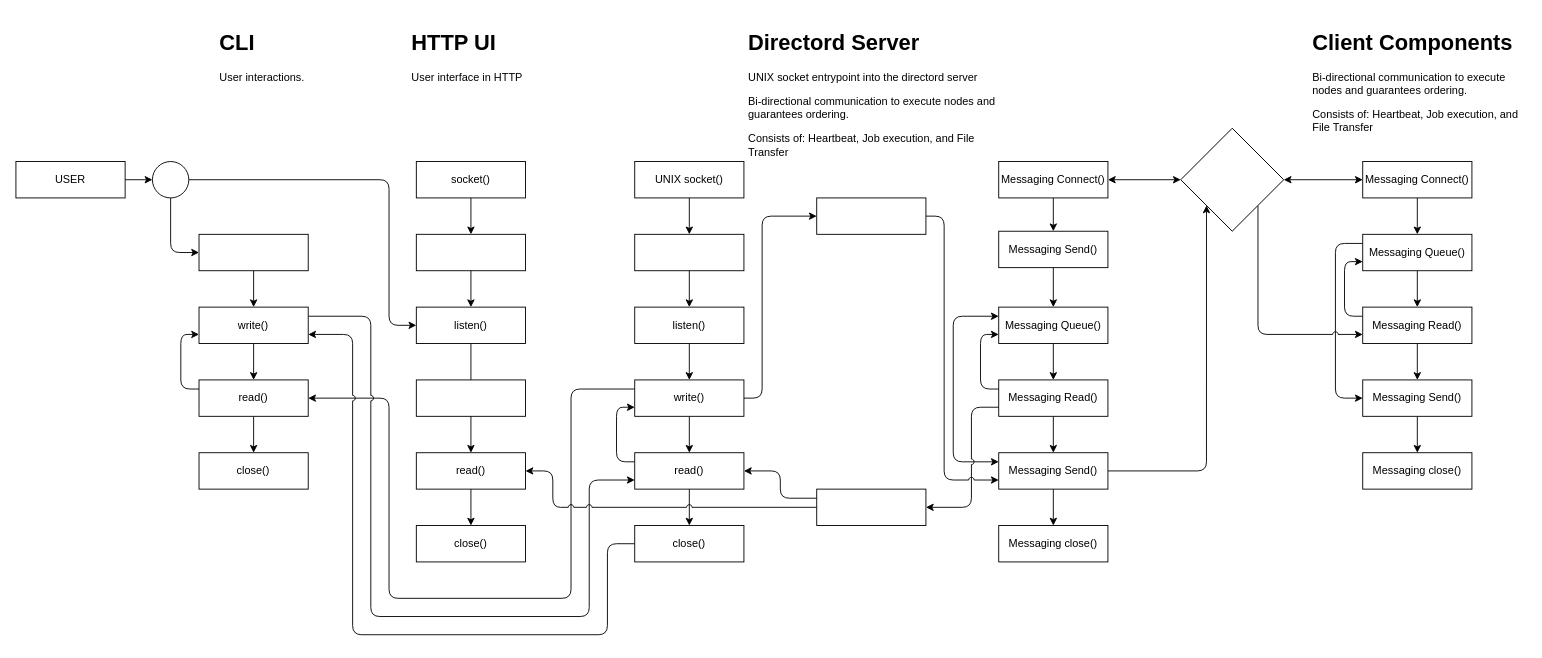
The diagram is 1542 pixels wide and 658 high, and some of its shapes have lost their labels. Here are the shapes that lost their labels. From the top down, the centre of each, then its label:
At [170,179]: "AND".
At [1232,179]: "QPID Dispatch Router".
At [871,215]: "Multiprocessing Queue".
At [253,252]: "connect()".
At [470,252]: "bind()".
At [689,252]: "UNIX bind()".
At [470,397]: "accept()".
At [871,507]: "Datastore".
